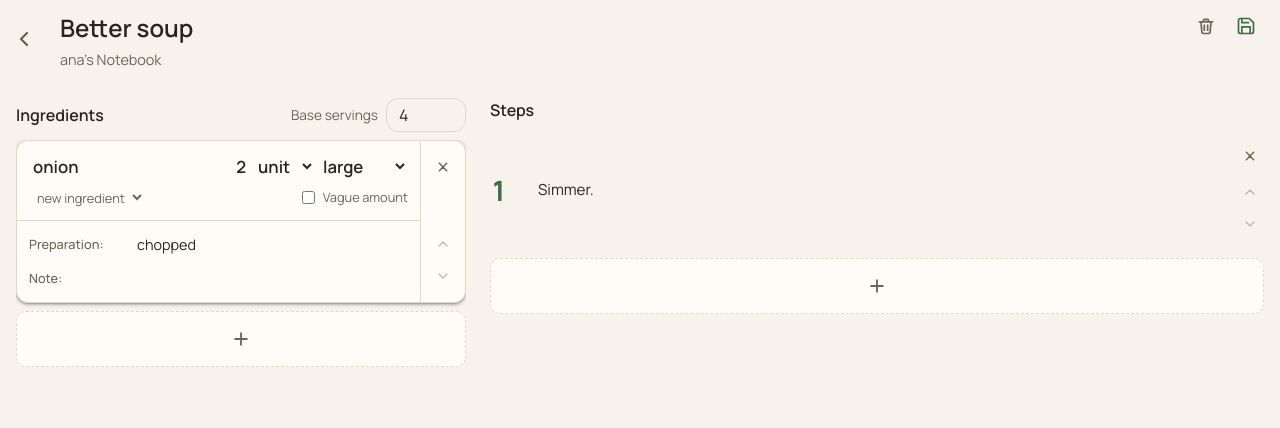
Test case: RecipeDraftEditor › Save (spec 020) › keeps the draft and shows a message on 409 kitchen_archived
Click the button named "Save recipe" at (1246,26), box [1228,8,1264,44]
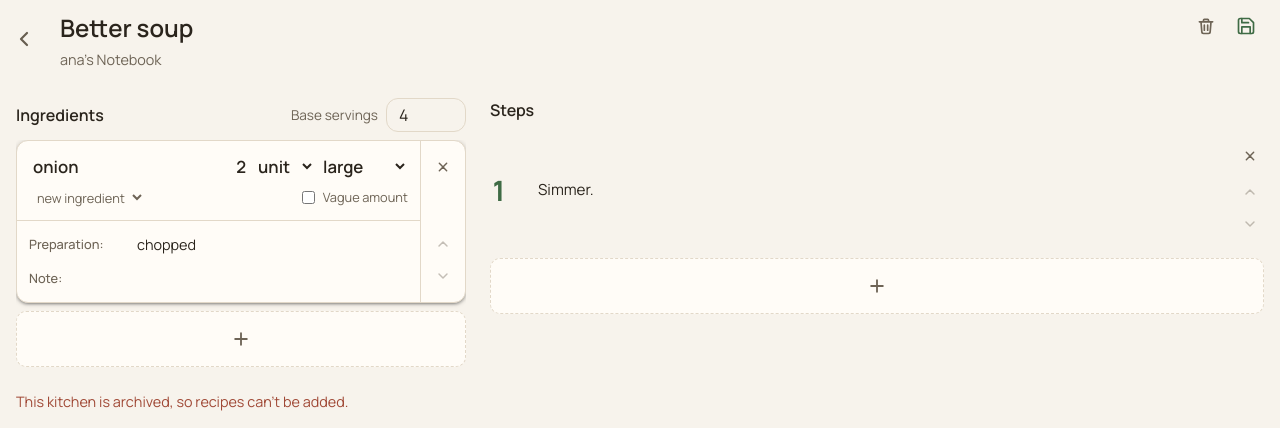
Result: the text "This kitchen is archived, so recipes can't be added." is shown at [16,392,348,411]
